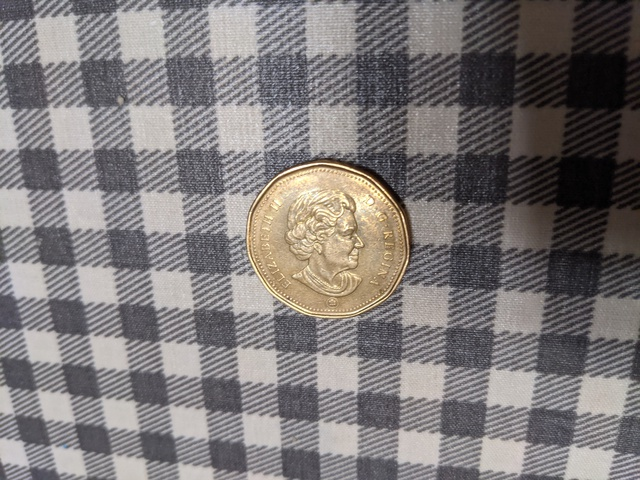loonie: (228, 143, 411, 321)
